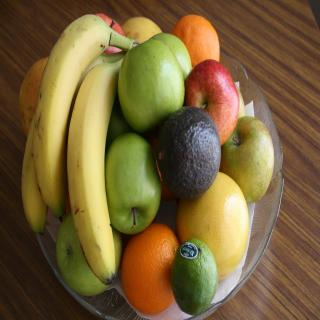Apple: (118, 39, 186, 132), (105, 132, 162, 238), (184, 58, 239, 146), (220, 116, 274, 202), (150, 30, 192, 79), (106, 96, 134, 153), (92, 12, 126, 55)
Banana: (21, 49, 126, 235), (66, 58, 124, 286)
Orange: (120, 224, 176, 316)
